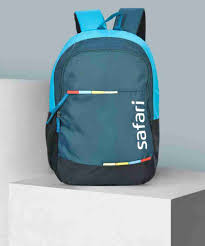backpack: (45, 7, 160, 185)
